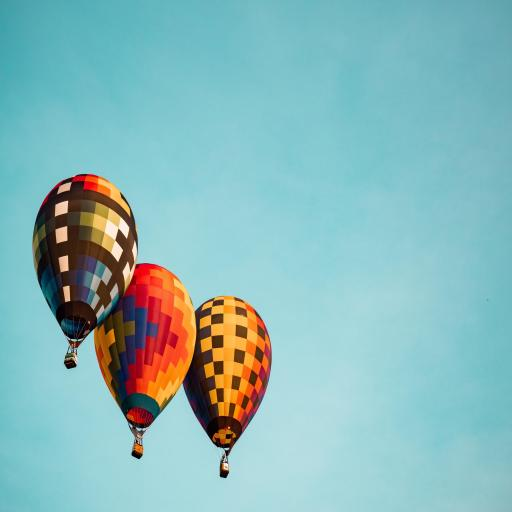hot air ballon: (32, 173, 138, 371), (94, 263, 197, 460), (183, 295, 271, 480)
